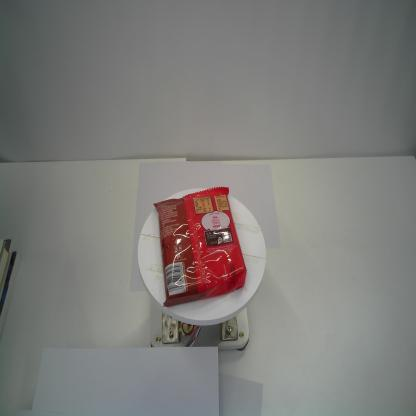Dessert: (153, 186, 247, 308)
